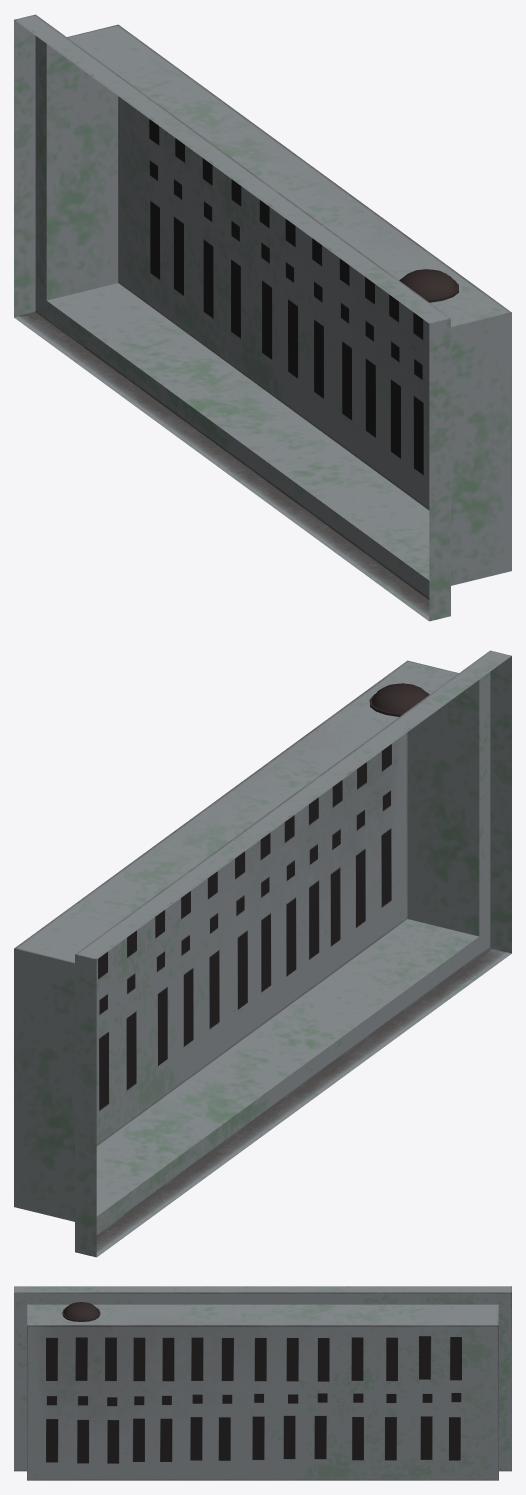
Rendered from SM_Tunnel2.fbx.
3 views of the same model, one above another, from view 1: azimuth 30°, elevation 25°; view 2: azimuth 150°, elevation 25°; view 3: azimuth 270°, elevation 25° (orthographic). The views are drawn at different scales.
Parts seen in each view (by area): view 1: SM_Tunnel2; view 2: SM_Tunnel2; view 3: SM_Tunnel2.
Boxes of the visible parts, x1,y1,x2,y2 form: SM_Tunnel2: (14,14,511,621); SM_Tunnel2: (14,650,511,1257); SM_Tunnel2: (14,1286,511,1480).
Bounding box in the file's own units: 7.65 × 58.78 × 23.26.
1 material, 1 textured.
